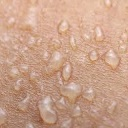Pemphigoid: (13, 66, 85, 128), (58, 18, 123, 76)
